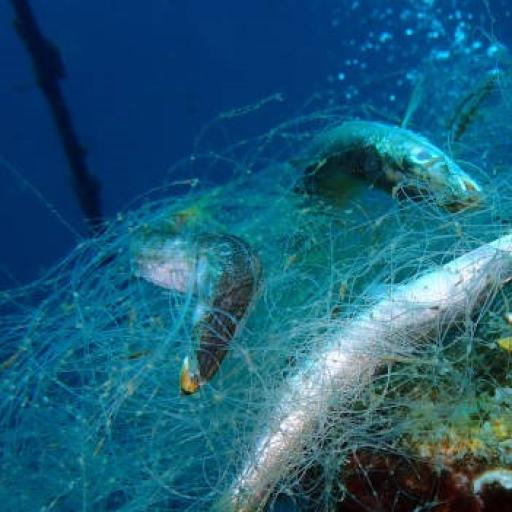net: (0, 85, 512, 511)
